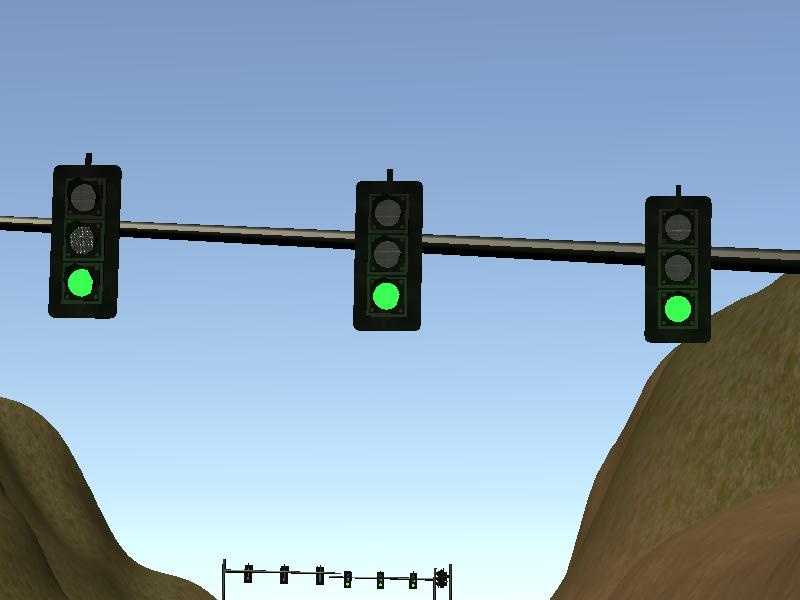GREEN: (46, 164, 121, 319), (353, 182, 422, 334), (643, 196, 710, 343)
